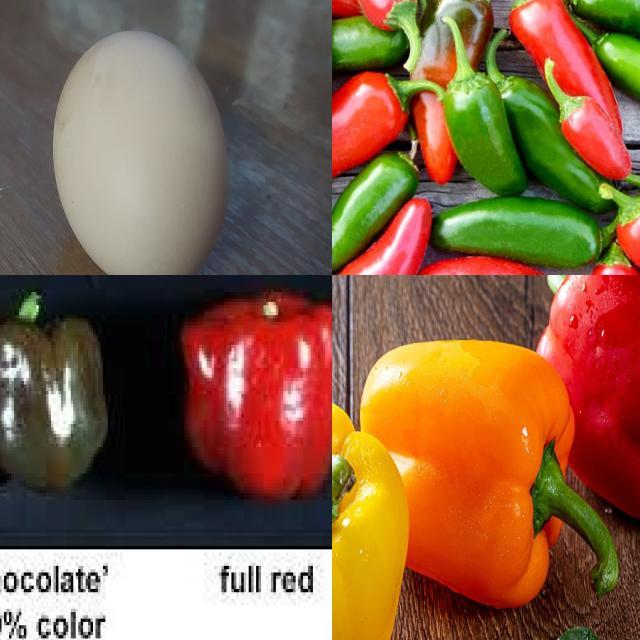bell_pepper: (344, 337, 624, 630), (531, 276, 640, 536), (1, 293, 111, 498), (333, 391, 407, 640)
egg: (49, 24, 232, 276)
